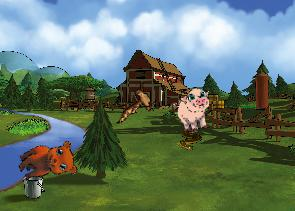bear: (13, 133, 82, 194)
eagle: (116, 77, 160, 130)
pig: (171, 86, 217, 135)
